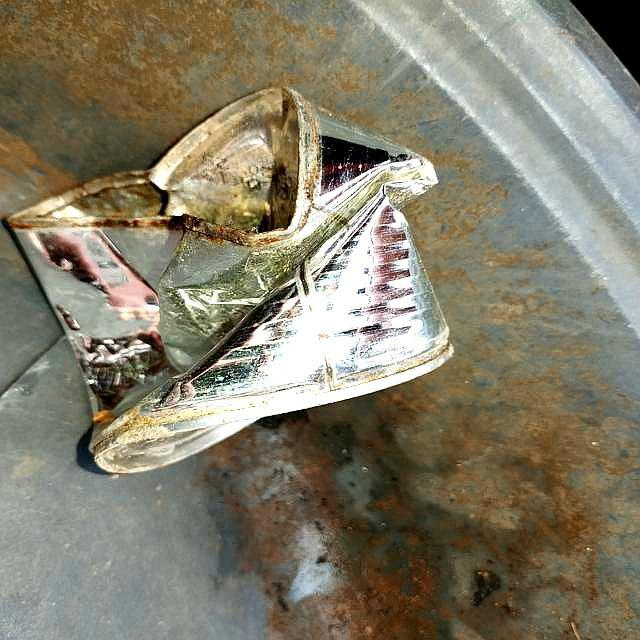Non-biodegradable: (5, 85, 456, 478)
